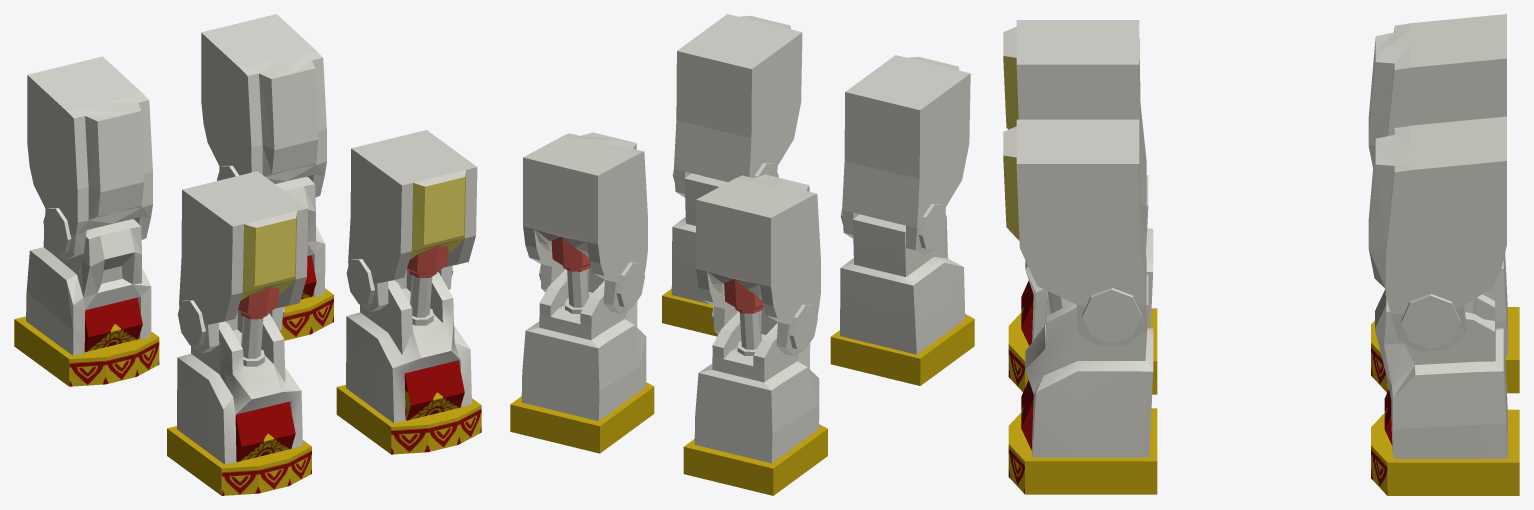
The model's file is hose2.glb.
3 views of the same model, side by side, from view 1: azimuth 30°, elevation 25°; view 2: azimuth 150°, elevation 25°; view 3: azimuth 270°, elevation 25° (orthographic). The views are drawn at different scales.
Parts seen in each view (by area): view 1: back 2 (×2), front 2-PBR_white (×2), front 3 (×2), foot (×4), back 3 (×2), front 2-PBR_yellow (×2), front 4 (×2), back 4, f2_cylinder 1, f1_cylinder 1, f1_cylinder 2, f2_cylinder 2; view 2: front 2-PBR_white (×2), back 2 (×2), back 3 (×2), front 3 (×2), foot (×4), b1_cylinder 1, b2_cylinder 1, b2_cylinder 2, b1_cylinder 2; view 3: back 2 (×2), front 2-PBR_white (×2), front 3 (×2), back 3 (×2), foot (×4), front 2-PBR_yellow (×2), front 4 (×2).
Part boxes in pixels (left/top/right/bottom): back 2 (×2): left=27, top=14, right=326, bottom=259; front 2-PBR_white (×2): left=179, top=130, right=477, bottom=353; front 3 (×2): left=177, top=259, right=471, bottom=464; foot (×4): left=14, top=288, right=481, bottom=495; back 3 (×2): left=26, top=165, right=325, bottom=355; front 2-PBR_yellow (×2): left=240, top=171, right=466, bottom=300; front 4 (×2): left=235, top=360, right=464, bottom=461; back 4: left=84, top=297, right=142, bottom=352; f2_cylinder 1: left=237, top=287, right=279, bottom=319; f1_cylinder 1: left=407, top=246, right=448, bottom=277; f1_cylinder 2: left=410, top=275, right=432, bottom=317; f2_cylinder 2: left=241, top=316, right=263, bottom=358; front 2-PBR_white (×2): left=674, top=14, right=970, bottom=255; back 2 (×2): left=523, top=132, right=820, bottom=355; back 3 (×2): left=521, top=262, right=819, bottom=463; front 3 (×2): left=671, top=163, right=965, bottom=354; foot (×4): left=510, top=289, right=974, bottom=495; b1_cylinder 1: left=551, top=237, right=590, bottom=271; b2_cylinder 1: left=724, top=279, right=763, bottom=313; b2_cylinder 2: left=739, top=311, right=761, bottom=349; b1_cylinder 2: left=567, top=269, right=588, bottom=307; back 2 (×2): left=1368, top=14, right=1506, bottom=351; front 2-PBR_white (×2): left=1003, top=20, right=1146, bottom=346; front 3 (×2): left=1025, top=175, right=1153, bottom=457; back 3 (×2): left=1375, top=253, right=1507, bottom=458; foot (×4): left=1008, top=307, right=1519, bottom=495; front 2-PBR_yellow (×2): left=1003, top=56, right=1019, bottom=240; front 4 (×2): left=1021, top=280, right=1033, bottom=449.
Bounding box in the file's own units: 257 × 254 × 360.
Materials: 5 (2 with a texture image).
